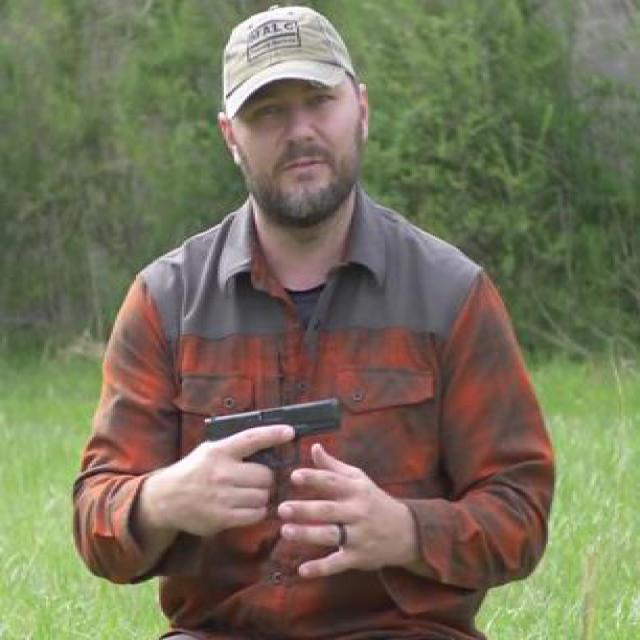gun: (196, 394, 344, 514)
